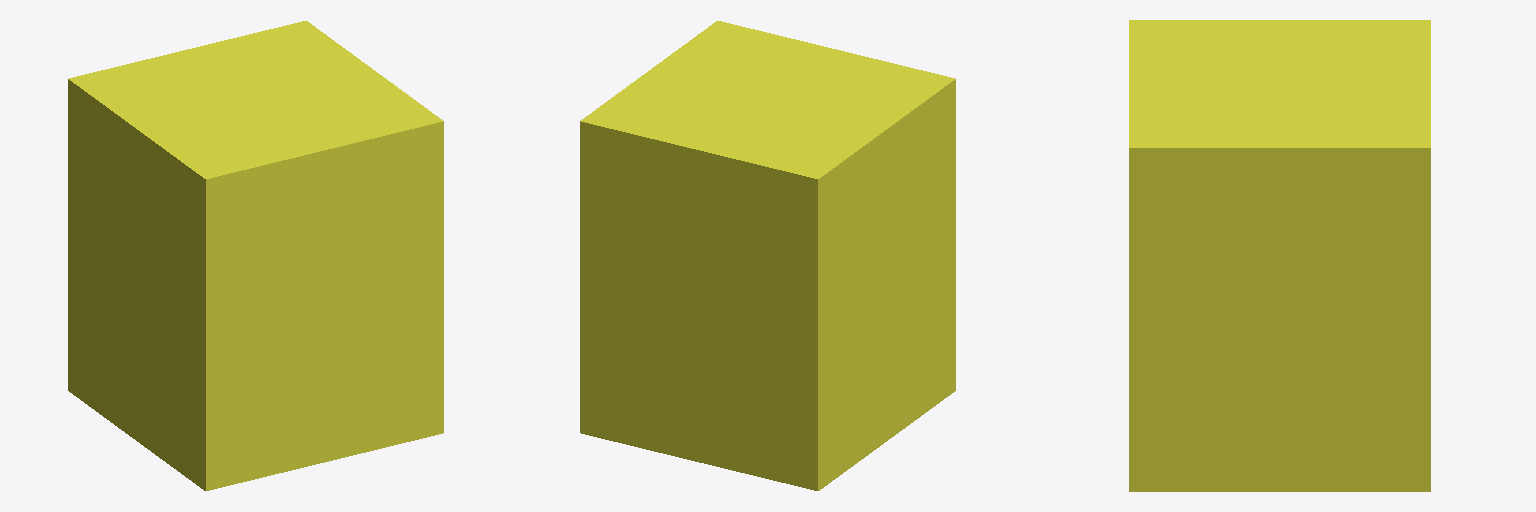
robot.urdf — blue_can:
<robot name="blue_can">

` <link name="can">
    <contact>
      <lateral_friction value="1"/>
    </contact>
    <inertial>
      <mass value="0.01"/>
      <inertia ixx="1.0" ixy="0.0" ixz="0.0" iyy="1.0" iyz="0.0" izz="1.0"/>
    </inertial>
    <visual>
      <origin rpy="0 0 0" xyz="0 0 0"/>
      <geometry>
        <box size = "0.12 0.12 0.15"/>
      </geometry>
      <material name = "blue">
        <color rgba="0.9 0.9 0.3 1"/>
      </material>
    </visual>
    <collision>
      <origin rpy="0 0 0" xyz="0 0 0"/>
      <geometry>
        <box size = "0.1 0.1 0.15"/>
      </geometry>
    </collision>
  </link>

</robot>

--- Render facts (derived) ---
The picture shows the robot from 3 angles, left to right: view 1: azimuth 30°, elevation 25°; view 2: azimuth 150°, elevation 25°; view 3: azimuth 270°, elevation 25°; orthographic projection.
Robot: blue_can — 1 links, 0 joints (none); root link can; default pose: every joint at zero.
Visible links, largest first — view 1: can; view 2: can; view 3: can.
Boxes of the visible links, x1,y1,x2,y2 form: can: [68, 21, 443, 490]; can: [580, 21, 955, 490]; can: [1129, 20, 1430, 491].
Size in the robot's own frame: 0.12 by 0.12 by 0.15 metres.
Geometry: primitives only (box / cylinder / sphere), no mesh files.